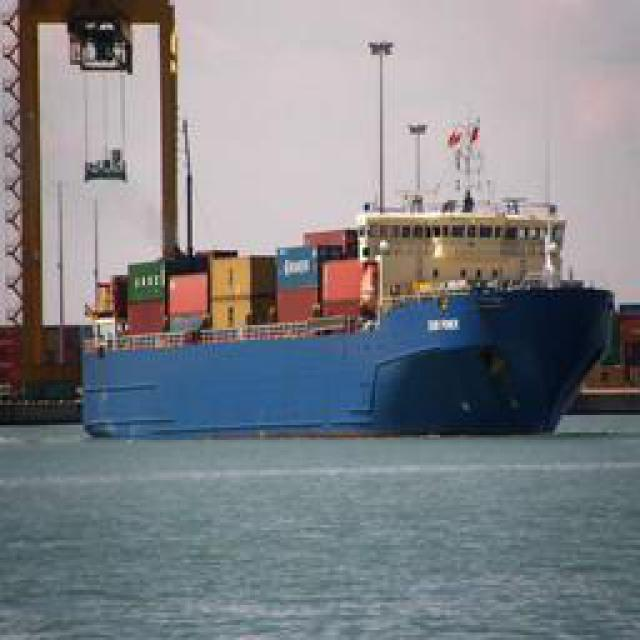Ship: (70, 104, 613, 437)
